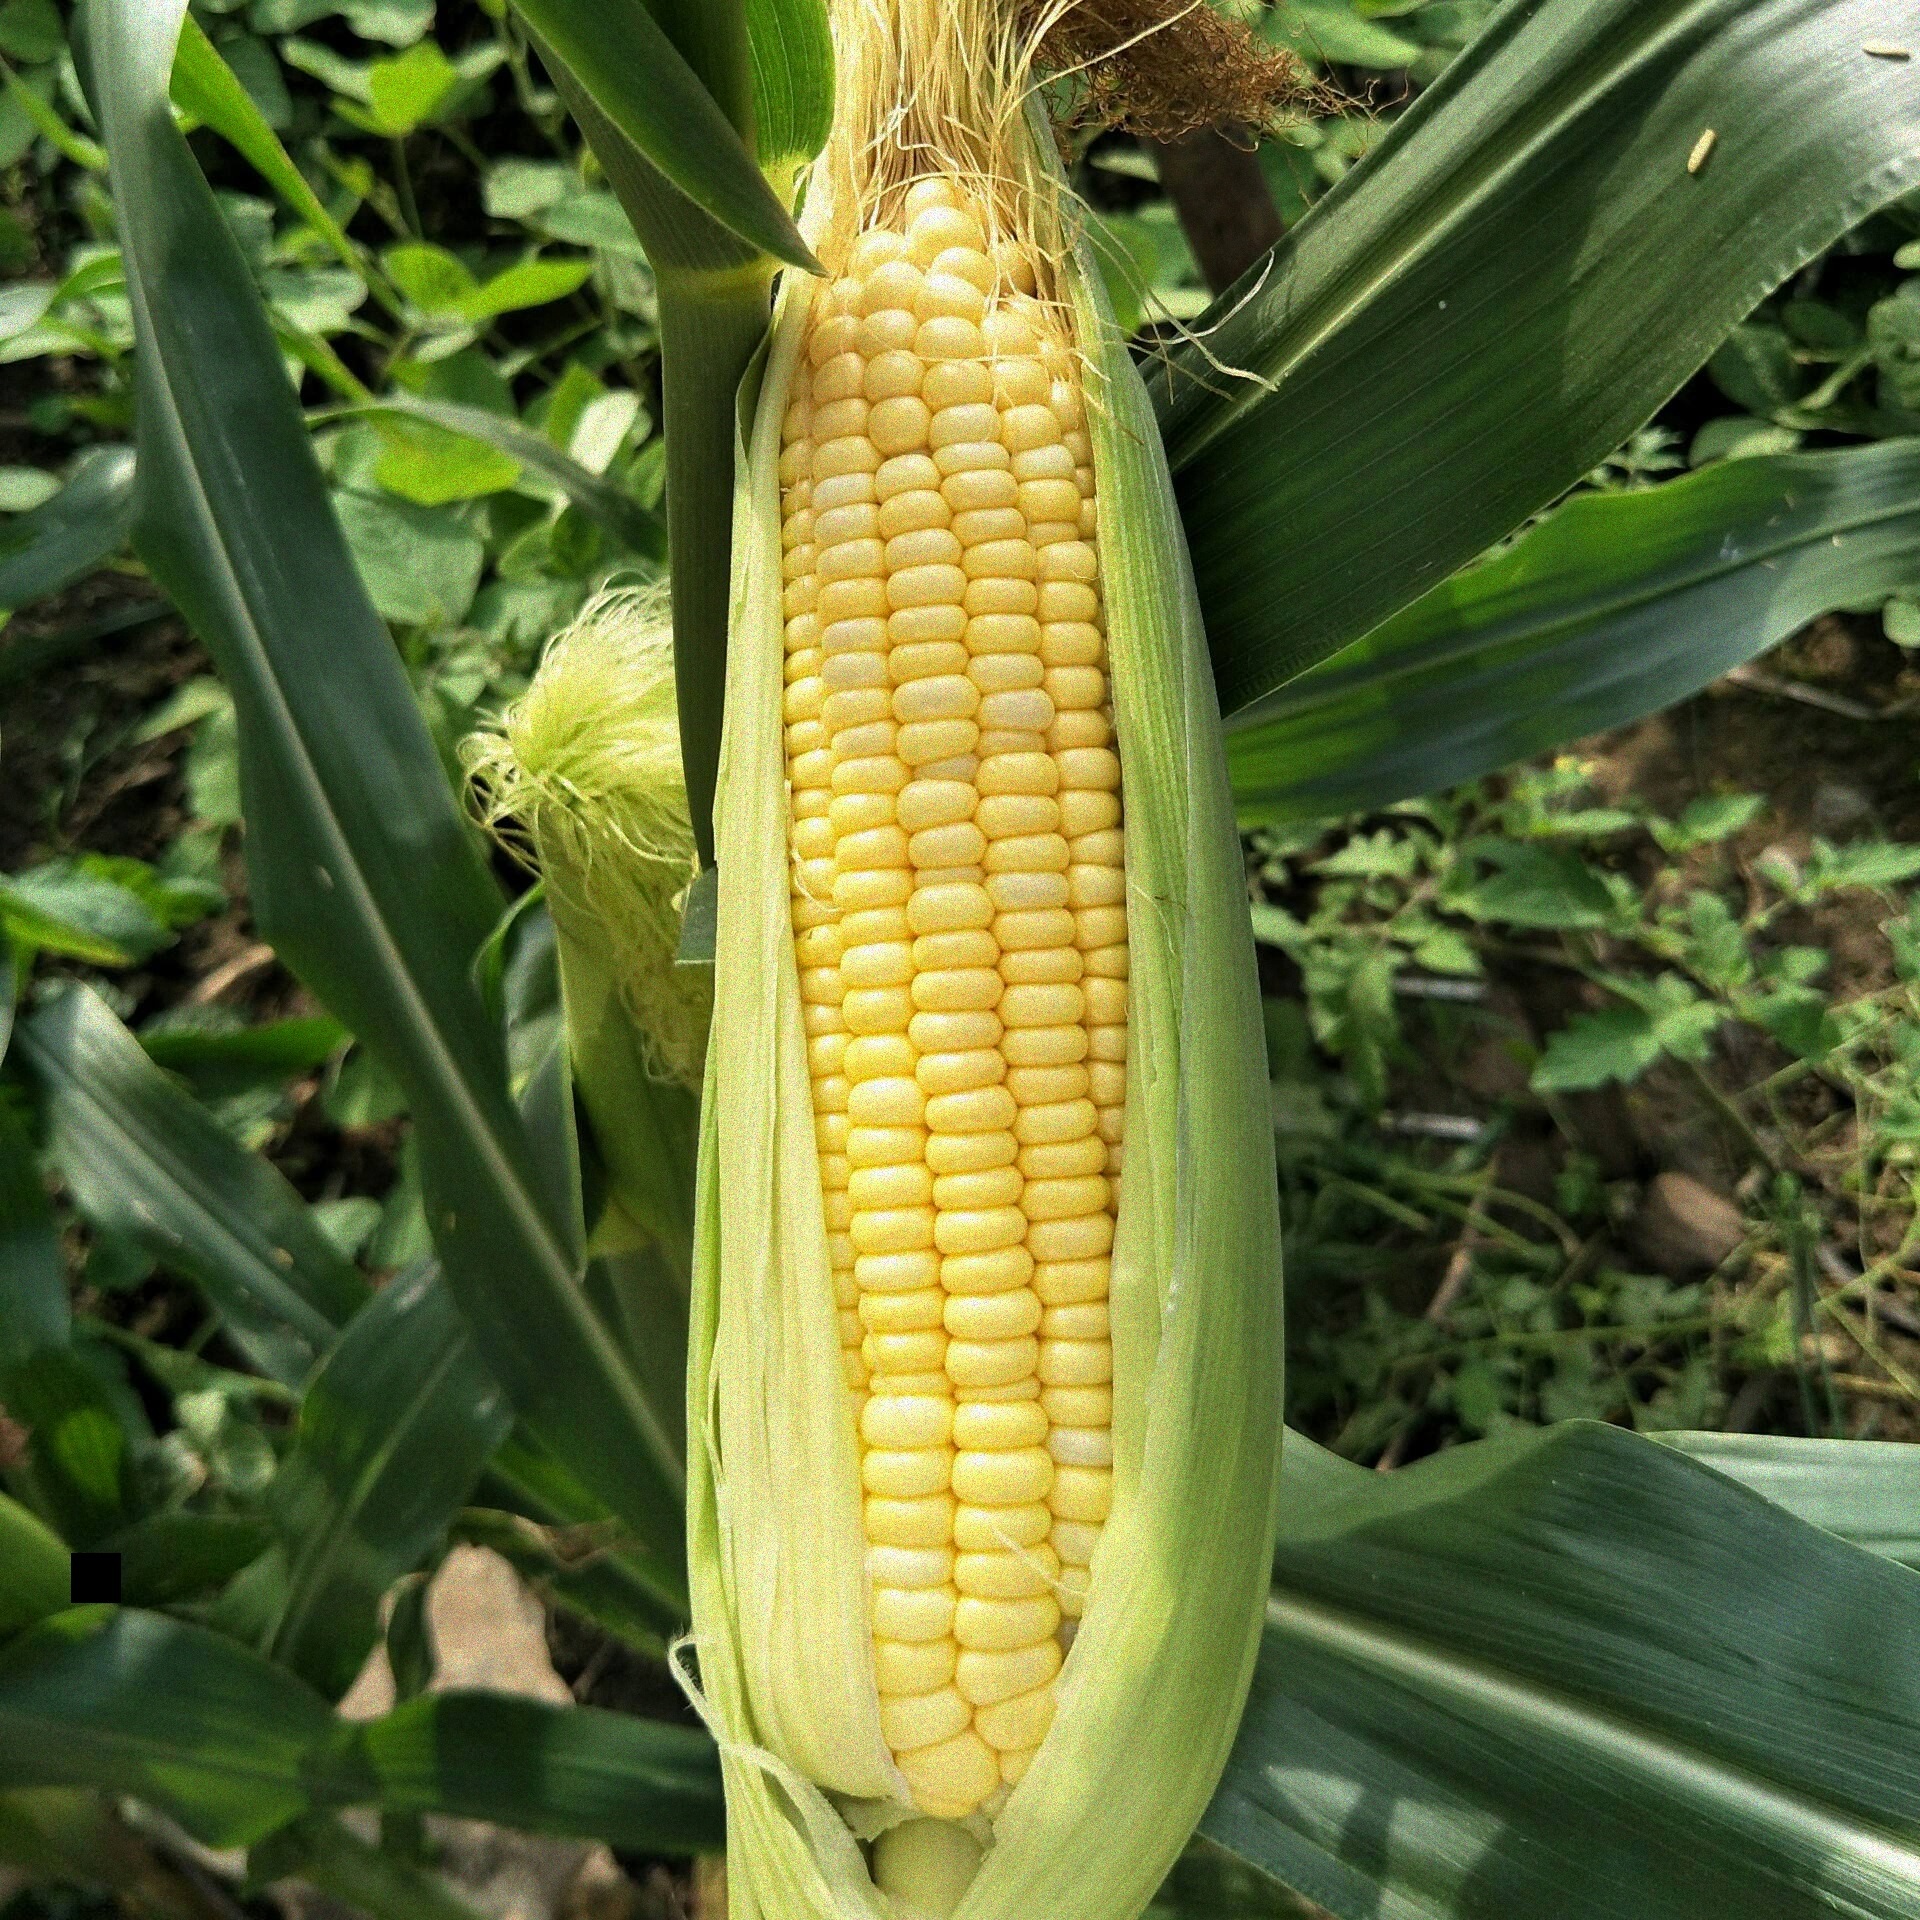corn: (693, 148, 1282, 1920)
